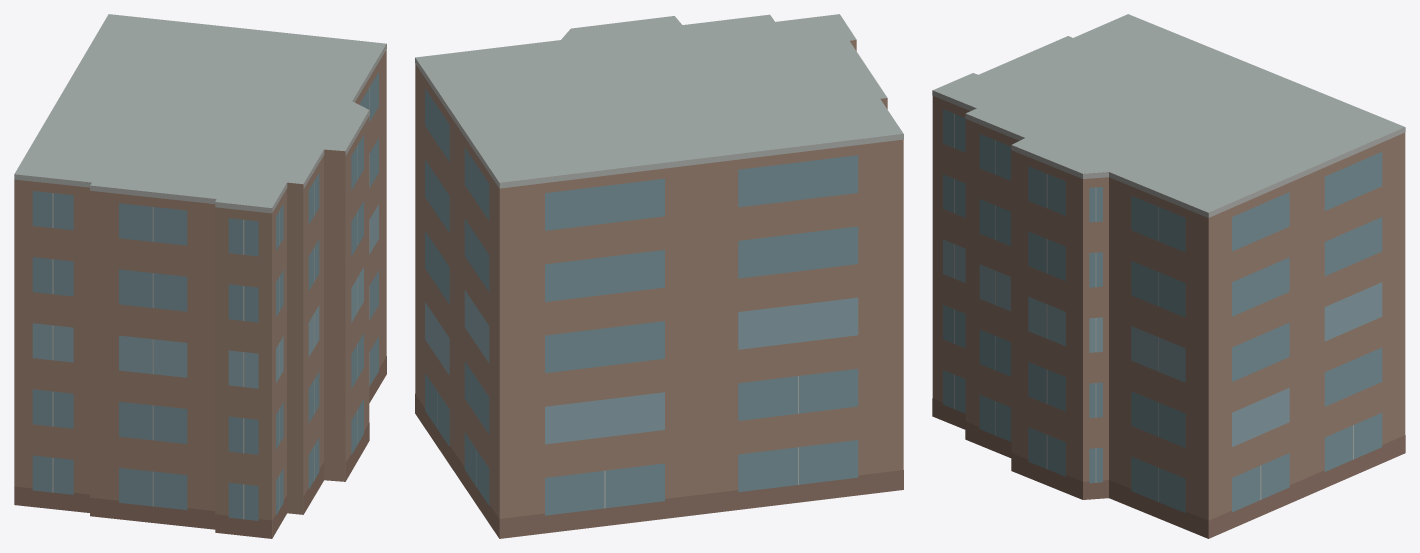
File: survey-upis-32752301.glb
3 renders of one model, left to right at view 1: azimuth 30°, elevation 25°; view 2: azimuth 150°, elevation 25°; view 3: azimuth 270°, elevation 25°, orthographic. The views are drawn at different scales.
Visible parts, largest first — view 1: survey-upis-32752301.tmp; view 2: survey-upis-32752301.tmp; view 3: survey-upis-32752301.tmp.
Part boxes in pixels (<box>): survey-upis-32752301.tmp: <box>14,14,386,538</box>; survey-upis-32752301.tmp: <box>415,14,903,538</box>; survey-upis-32752301.tmp: <box>932,14,1405,538</box>.
Size of the model in its own units: 19.95 by 15.25 by 20.05.
